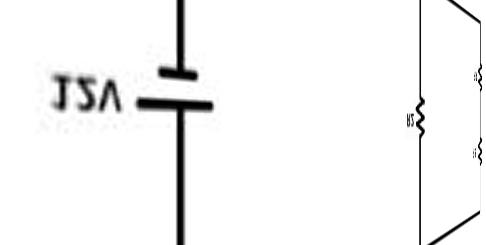Battery: (131, 47, 222, 127)
